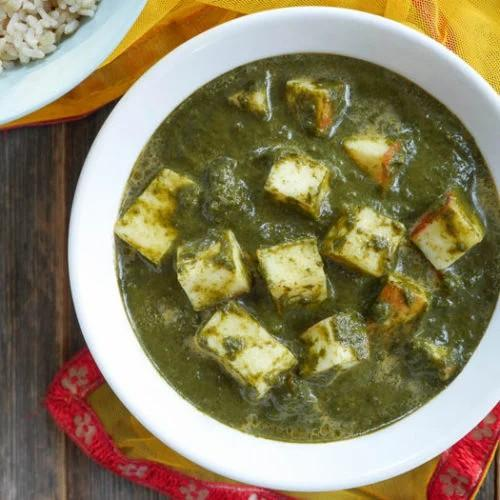PalakPaneer: (113, 52, 500, 441)
